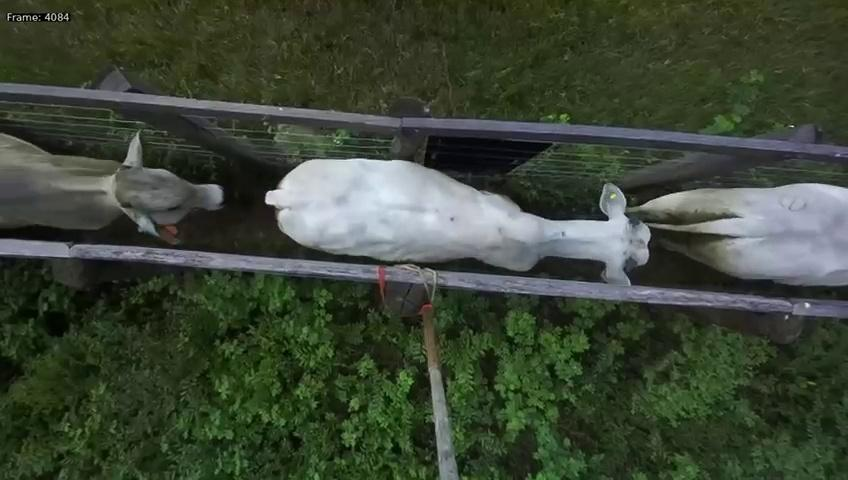cattle: (263, 143, 653, 289), (0, 115, 231, 245)
